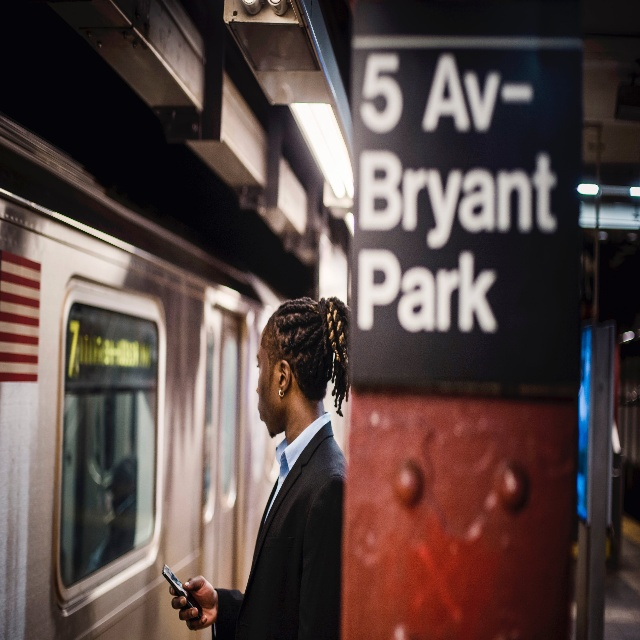Sin_guantes: (169, 572, 219, 625)
